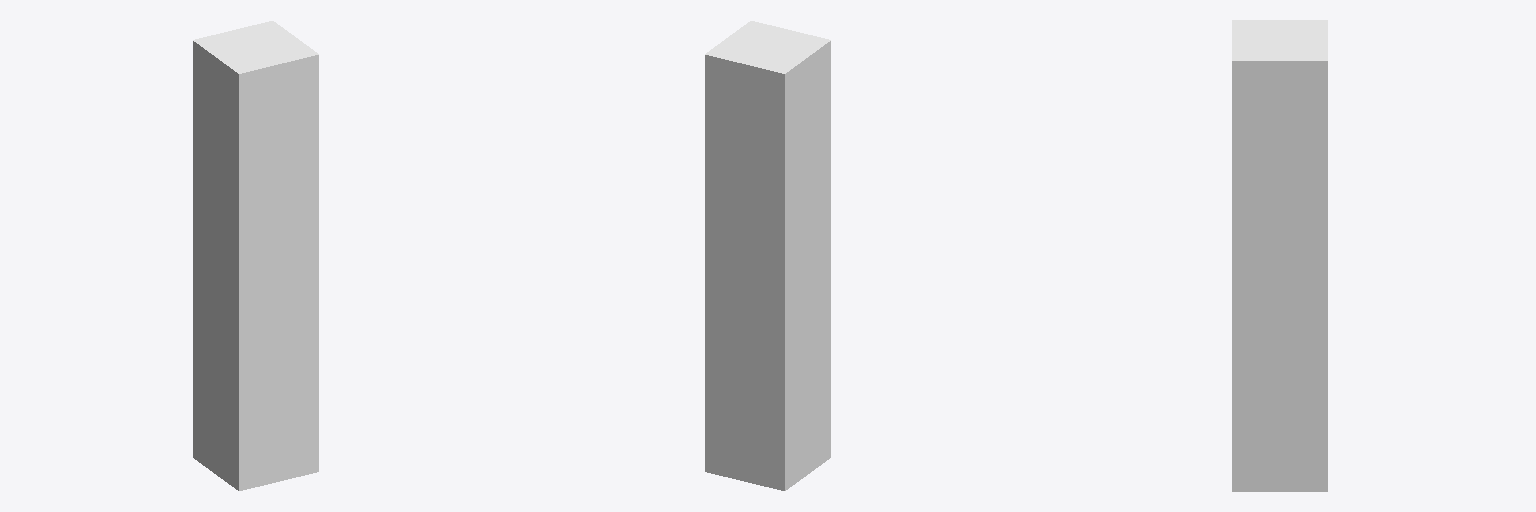
robot.urdf — block:
<?xml version="1.0" ?>
<robot name="block">
  <link name="baseLink">
    <contact>
      <lateral_friction value="0.0"/>
      <rolling_friction value="0.0"/>
      <contact_cfm value="0.0"/>
      <contact_erp value="0.0"/>
    </contact>
    <inertial>
      <origin rpy="0 0 0" xyz="0 0 0"/>
       <mass value="1.0"/>
       <inertia ixx="1" ixy="0" ixz="0" iyy="1" iyz="0" izz="1"/>
    </inertial>
    <visual>
      <origin rpy="0 0 0" xyz="0 0 0"/>
      <geometry>
				<mesh filename="block_obs.STL" scale="0.001 0.001 0.001"/>
      </geometry>
       <material name="white">
        <color rgba="1 1 1 1"/>
      </material>
    </visual>
    <collision>
      <origin rpy="0 0 0" xyz="0 0 0"/>
      <geometry>
	 	<box size="0.001 0.001 0.001"/>
      </geometry>
    </collision>
  </link>
</robot>

--- What the picture shows (computed from the rendered views, not written in the file) ---
3 views of the same robot in one strip: view 1: azimuth 30°, elevation 25°; view 2: azimuth 150°, elevation 25°; view 3: azimuth 270°, elevation 25° (orthographic).
Robot: block — 1 links, 0 joints (none); root link baseLink; default pose: every joint at zero.
Visible links, largest first — view 1: baseLink; view 2: baseLink; view 3: baseLink.
Boxes of the visible links, x1,y1,x2,y2 form: baseLink: (193, 21, 318, 490); baseLink: (705, 21, 830, 490); baseLink: (1232, 20, 1327, 491).
Size in the robot's own frame: 0.1412 by 0.1412 by 0.7 metres.
Meshes: 1 distinct files referenced, 1 mesh visuals loaded (1 binary STL).
